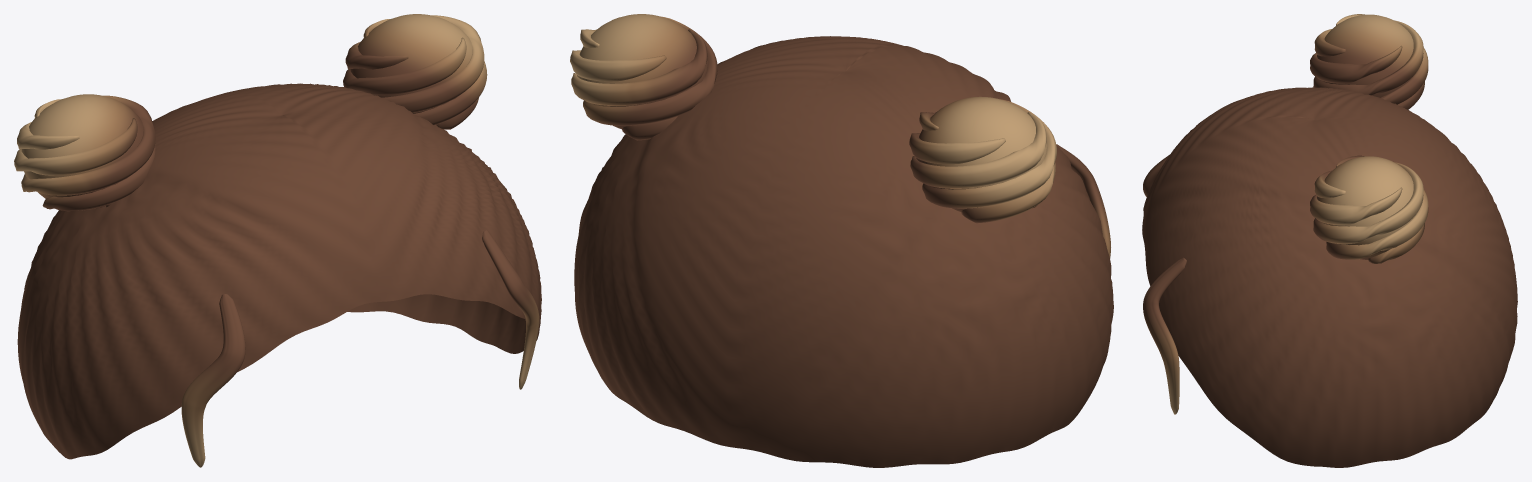
The model's file is Ombre-5b44237b6e22253-hair.glb.
3 renders of one model, left to right at view 1: azimuth 30°, elevation 25°; view 2: azimuth 150°, elevation 25°; view 3: azimuth 270°, elevation 25°, orthographic. The views are drawn at different scales.
Parts seen in each view (by area): view 1: 226 hair / Hair / chestnut226.001; view 2: 226 hair / Hair / chestnut226.001; view 3: 226 hair / Hair / chestnut226.001.
Part boxes in pixels (box(x1,y1,x2,y2)): 226 hair / Hair / chestnut226.001: box(14, 14, 541, 467); 226 hair / Hair / chestnut226.001: box(570, 14, 1113, 467); 226 hair / Hair / chestnut226.001: box(1142, 14, 1517, 467).
Size of the model in its own units: 0.9988 by 0.6556 by 0.7845.
1 material, 1 textured.
